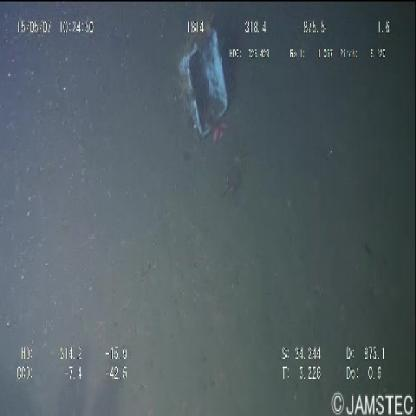Rác: (177, 23, 232, 145)
